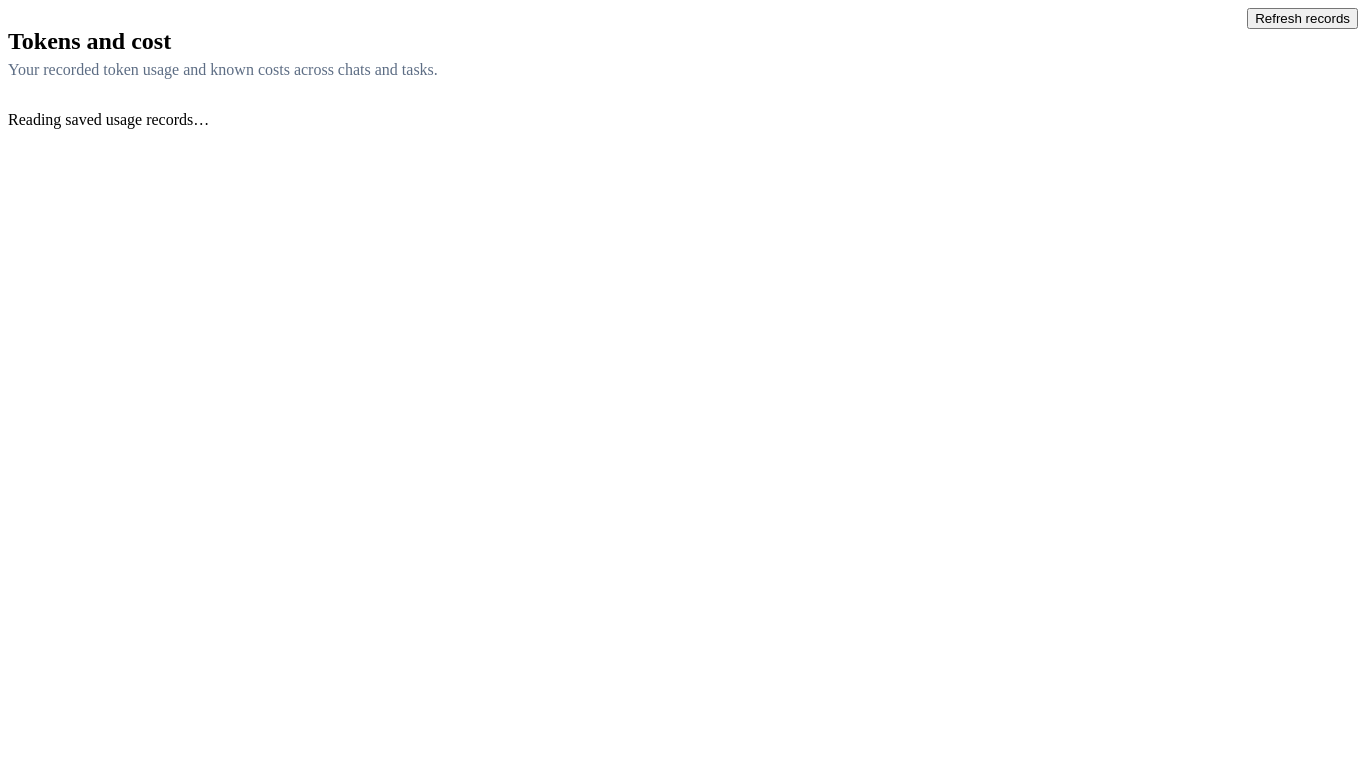
Test case: token usage records › does not publish a stale initial read after a later refresh has completed
Click the button "Refresh records" at (1303, 18), box [1247,8,1358,29]
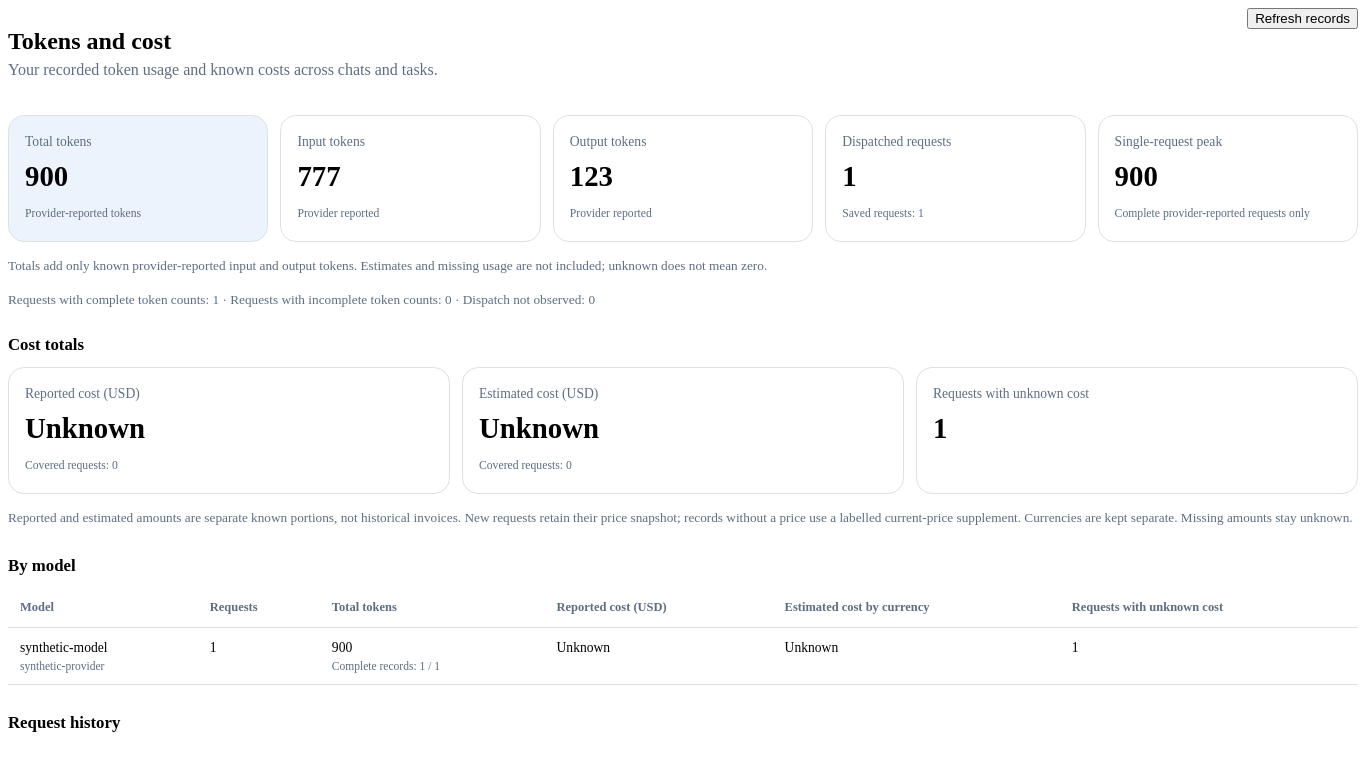
Result: the 1st text "900" is shown at [25,160,68,192]
